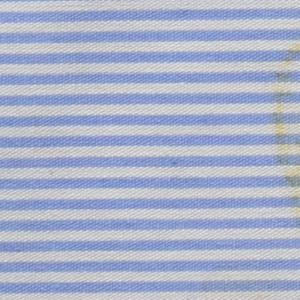Stain: (272, 38, 300, 212)
